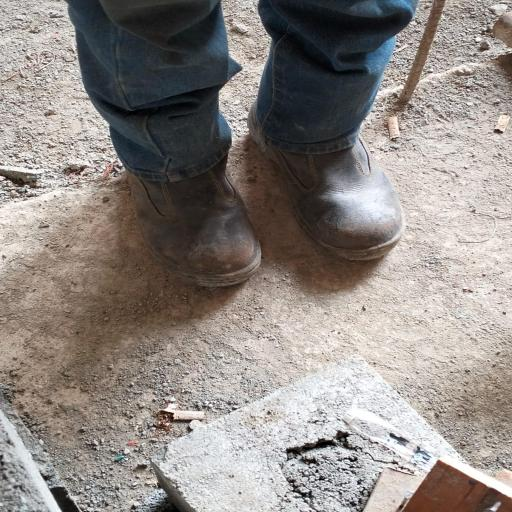safety_shoe: (251, 114, 405, 261), (118, 157, 254, 287)
